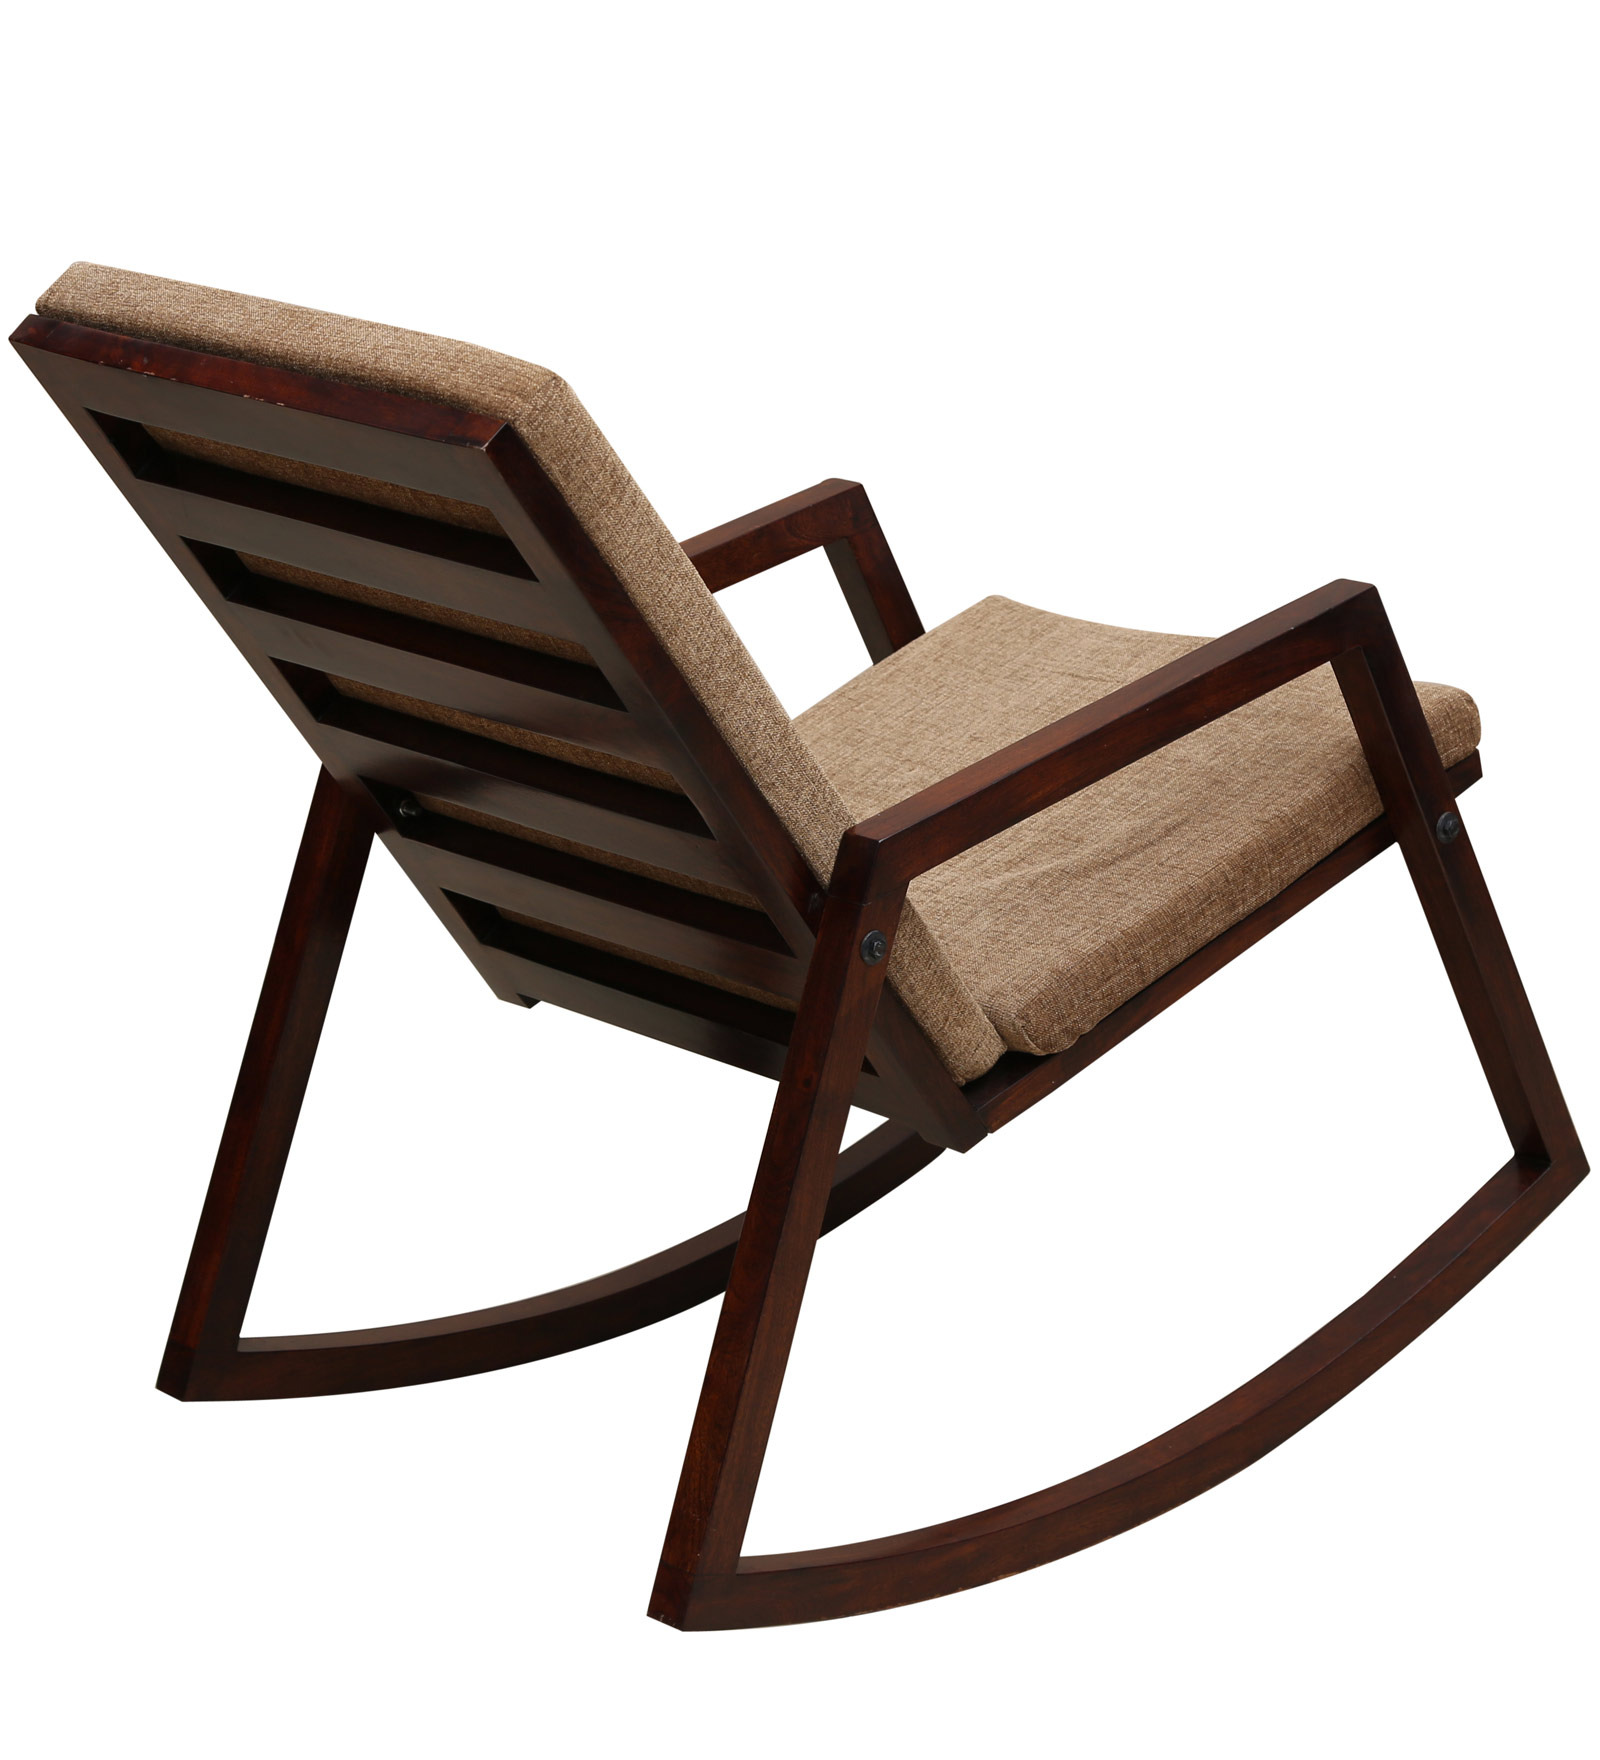Ace Rocking Chair in Brown Colour by HomeTown: (18, 209, 1600, 1643)
